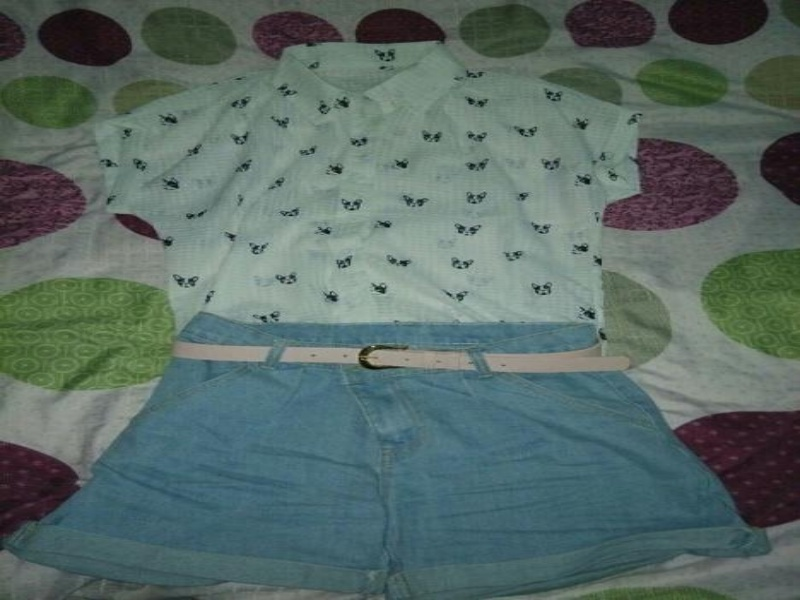short_sleeved_shirt: (91, 37, 655, 389)
shorts: (0, 306, 783, 599)
